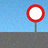sign: (26, 4, 44, 38)
